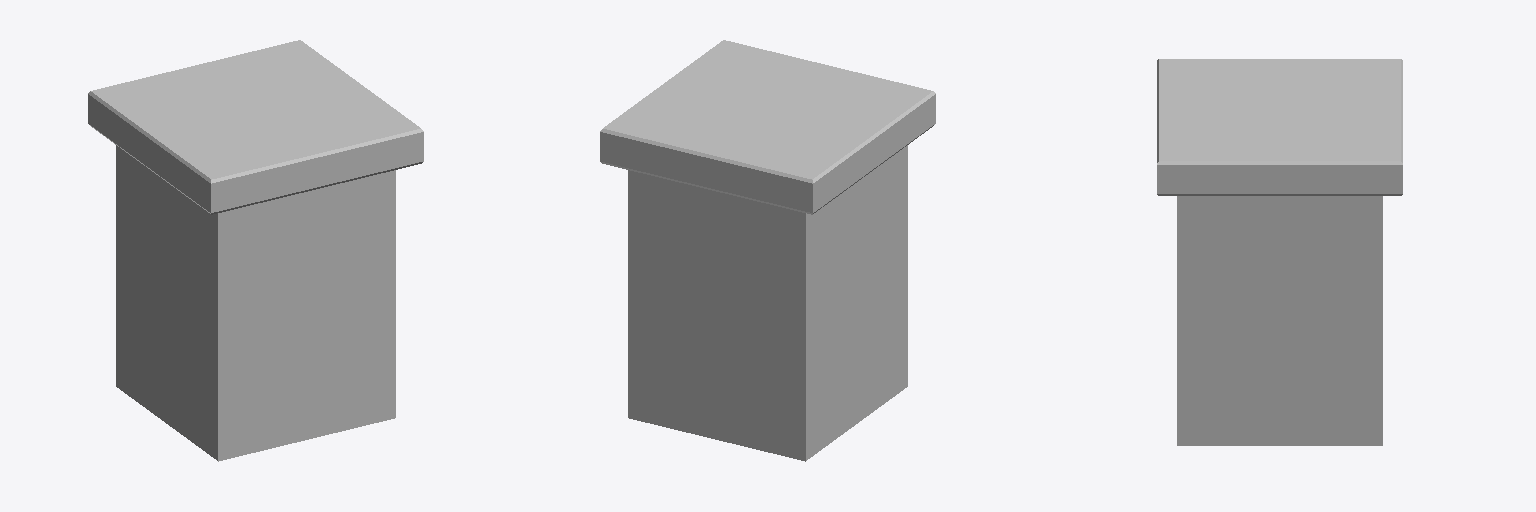
Rendered from DisplayPlatform.obj.
The picture shows the model from 3 angles: view 1: azimuth 30°, elevation 25°; view 2: azimuth 150°, elevation 25°; view 3: azimuth 270°, elevation 25°; orthographic projection.
Parts seen in each view (by area): view 1: DisplayPlatform; view 2: DisplayPlatform; view 3: DisplayPlatform.
Boxes of the visible parts, x1=… form: DisplayPlatform: x1=88, y1=40, x2=423, y2=461; DisplayPlatform: x1=600, y1=40, x2=935, y2=461; DisplayPlatform: x1=1157, y1=59, x2=1402, y2=445.
Bounding box in the file's own units: 1.2 × 1.57 × 1.2.